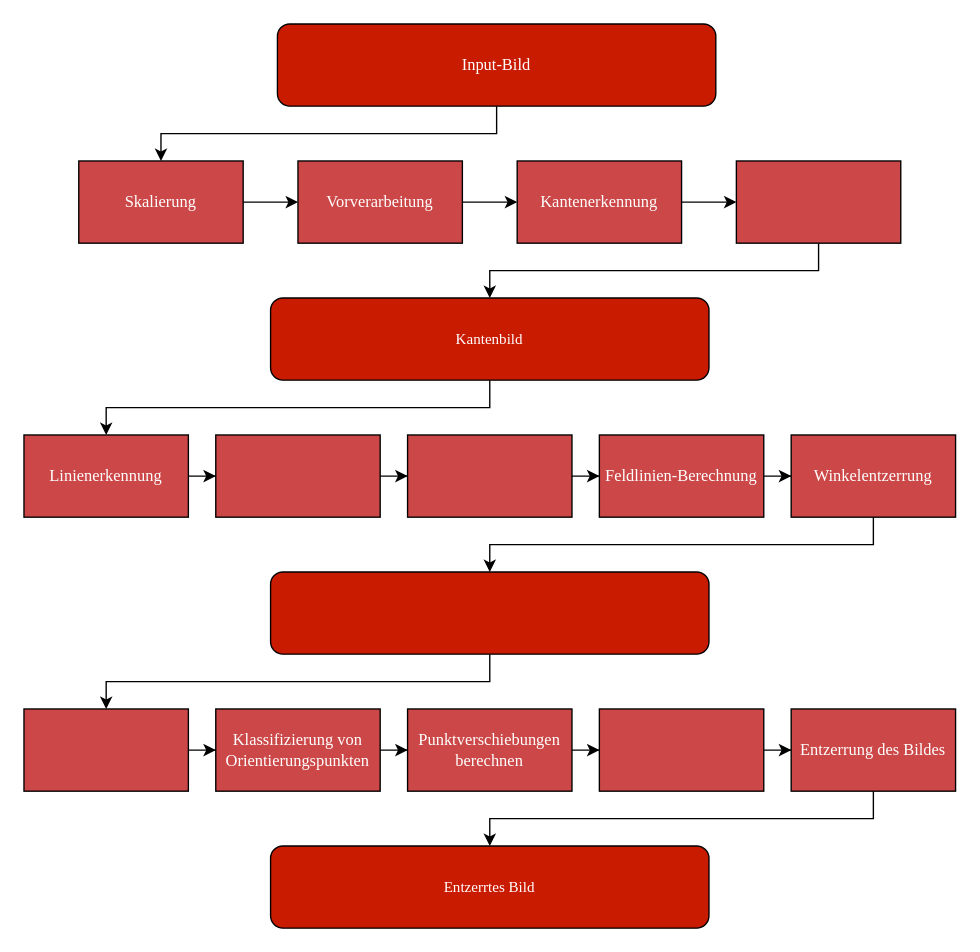
This 980x952 diagram has some shape labels left out. The shapes that lost their labels are listed below. From the top down, each one's box as (x1, y1, x2, y2) in pixels, then its label:
(735, 160, 901, 243): Skelettierung
(214, 434, 380, 517): Mittelpunktextraktion
(406, 434, 572, 517): Linienfilterung
(269, 571, 709, 654): Linien
(23, 708, 188, 791): Identifizierung von Orientierungspunkten
(598, 708, 764, 791): Entzerrung ermitteln
